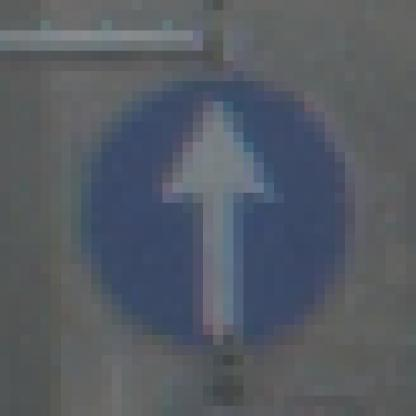AheadOnly: (52, 52, 366, 366)
